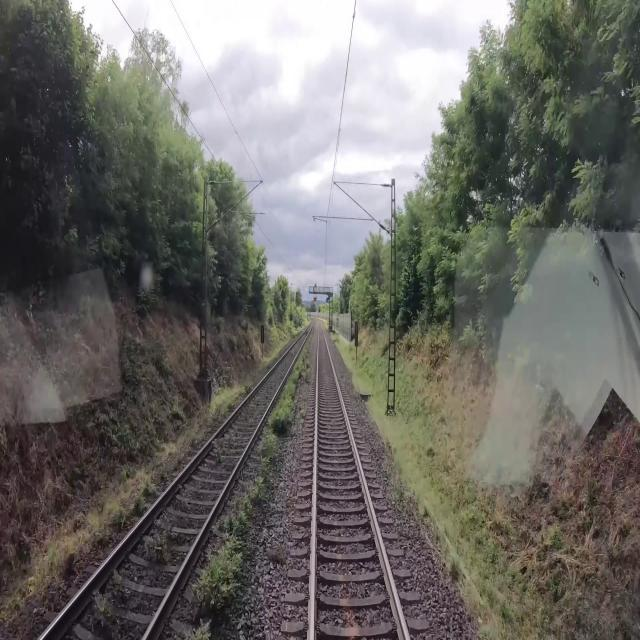Plant: (190, 333, 314, 613), (381, 452, 486, 639), (91, 569, 130, 628), (144, 529, 169, 566), (161, 453, 185, 480), (184, 618, 213, 639), (43, 579, 66, 605), (267, 545, 286, 565), (190, 428, 206, 448), (212, 438, 223, 460), (117, 511, 131, 525), (143, 484, 157, 498), (222, 403, 234, 418), (96, 536, 108, 550), (134, 496, 144, 512), (182, 497, 192, 512), (244, 384, 253, 393)
